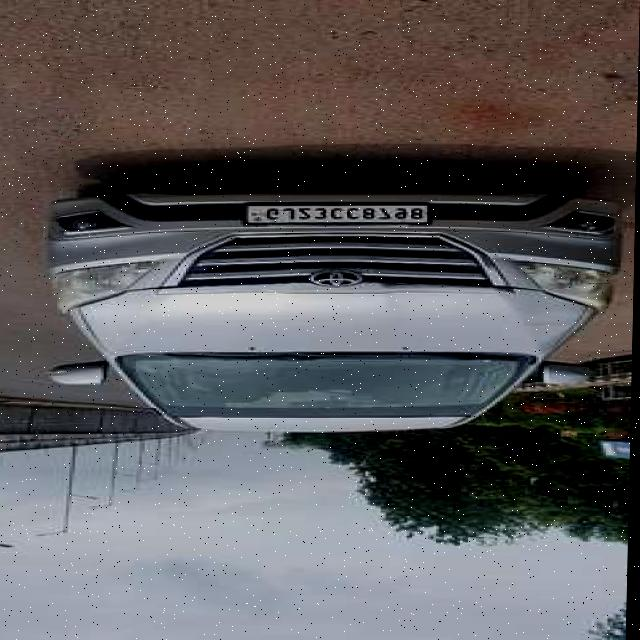plate: (241, 204, 431, 226)
